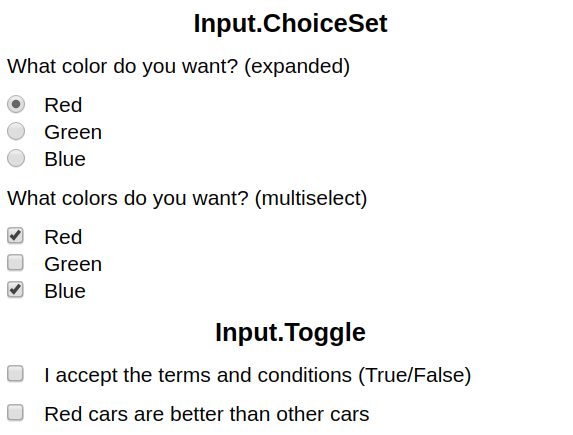checkbox: (5, 360, 473, 389), (4, 399, 386, 425), (4, 253, 105, 275), (5, 221, 89, 247), (4, 279, 93, 301)
radio_button: (5, 119, 105, 144), (7, 91, 91, 113), (4, 150, 92, 168)
textbox: (4, 54, 354, 81), (5, 186, 368, 210), (192, 10, 392, 38), (213, 318, 367, 346)
